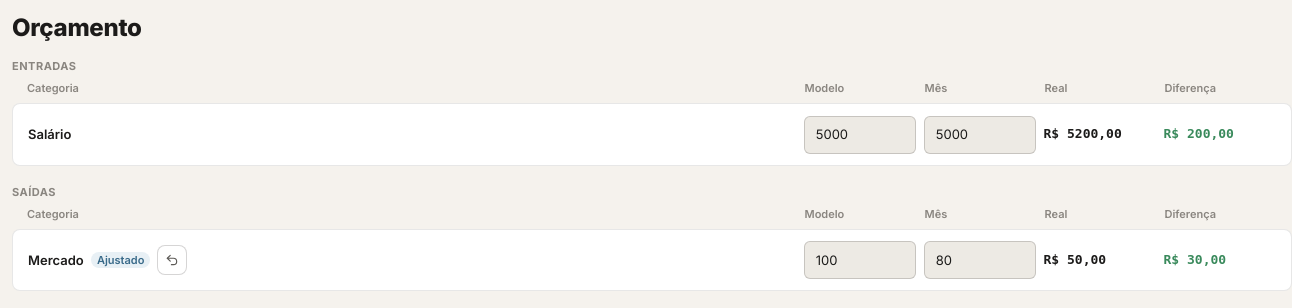
Test: FinanceBudgetPage › saves a month override when editing the month column
Replace the text in the number field named "Valor de Mercado no mês" with "65" at [980, 260], box [924,241,1036,279]
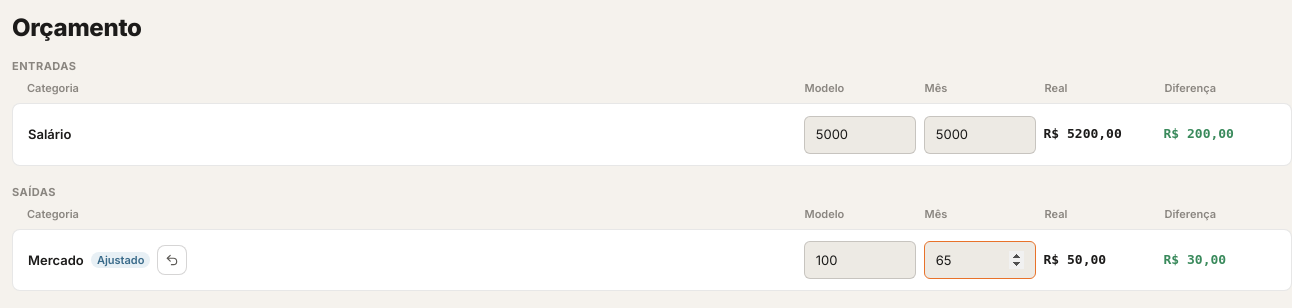
Press Tab
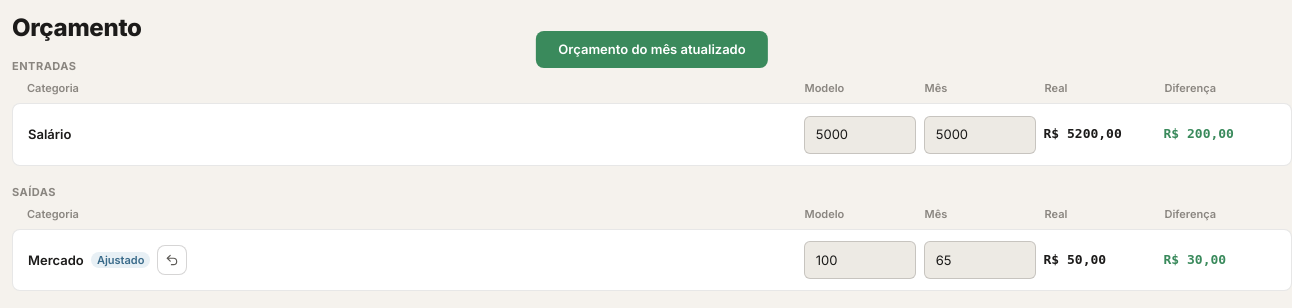
Expected: the message reads "Orçamento do mês atualizado", [558,41,746,57]
